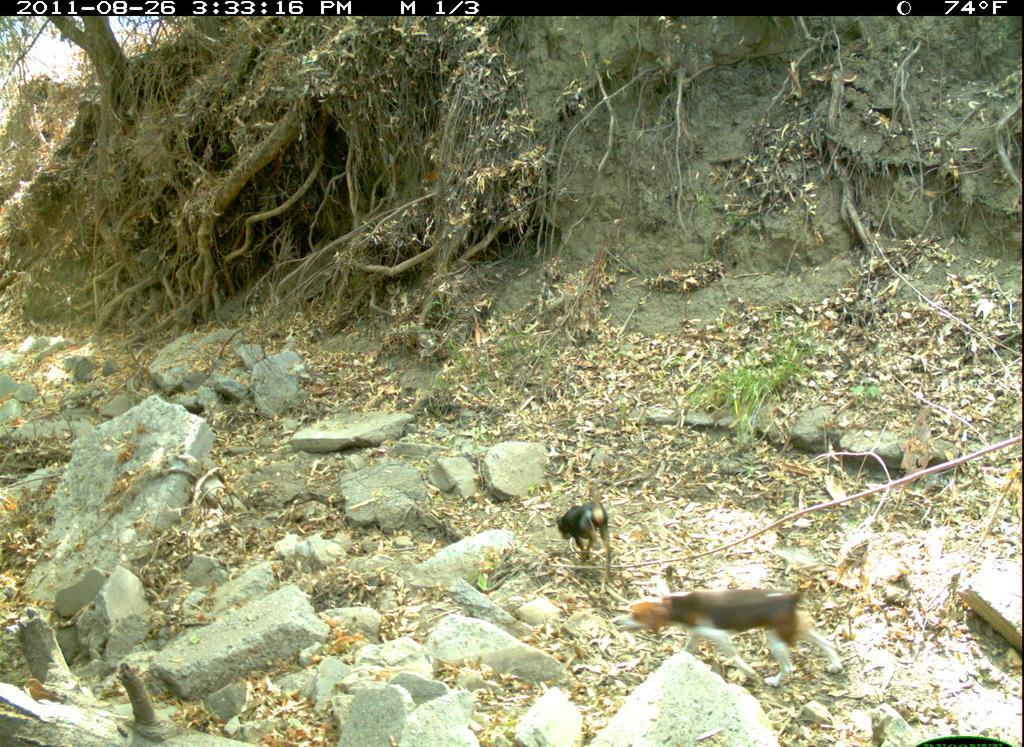dog: (612, 577, 876, 699), (543, 495, 628, 575)
